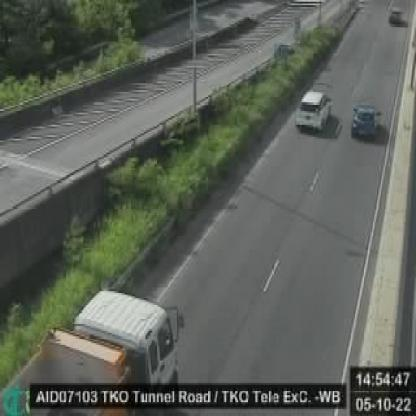Car: (295, 88, 332, 132), (351, 106, 380, 142)
